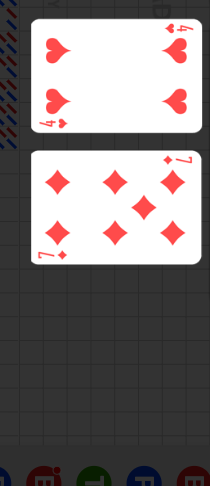4H: (162, 22, 194, 35)
7D: (36, 249, 68, 261)
